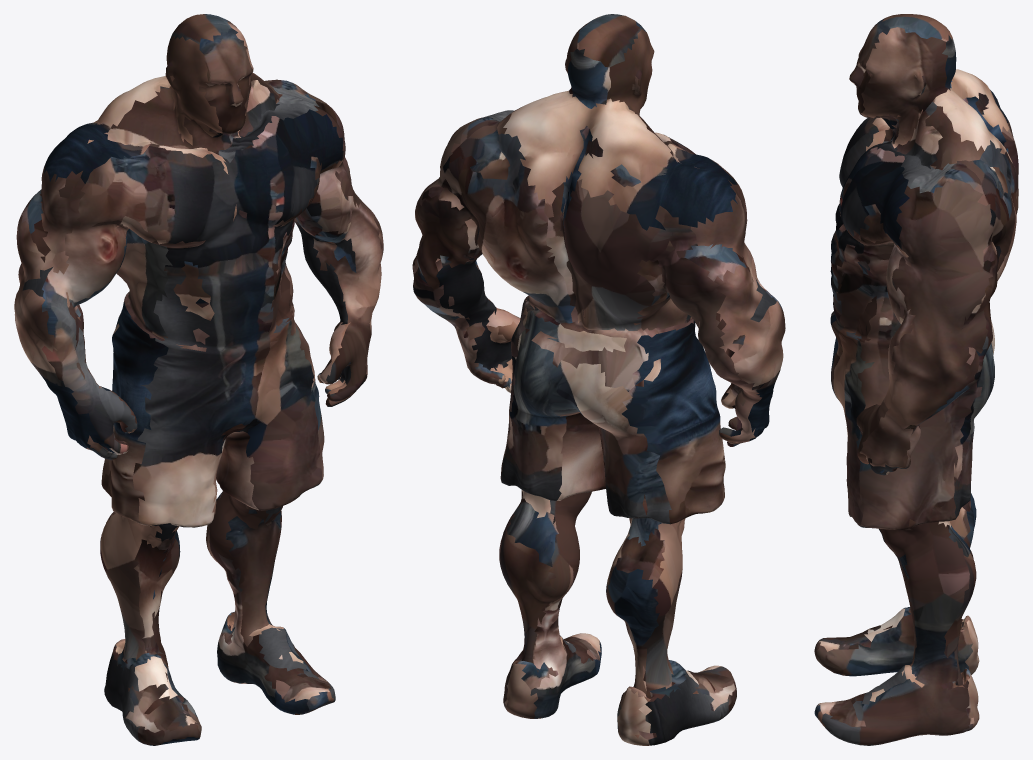
File: bodybuilder.fbx
3 renders of one model, left to right at view 1: azimuth 30°, elevation 25°; view 2: azimuth 150°, elevation 25°; view 3: azimuth 270°, elevation 25°, orthographic.
Parts seen in each view (by area): view 1: Mesh_0; view 2: Mesh_0; view 3: Mesh_0.
Part boxes in pixels (left/top/right/bottom): Mesh_0: left=14, top=14, right=383, bottom=745; Mesh_0: left=412, top=14, right=785, bottom=745; Mesh_0: left=814, top=14, right=1018, bottom=745.
Size of the model in its own units: 1.06 by 2 by 0.5389.
